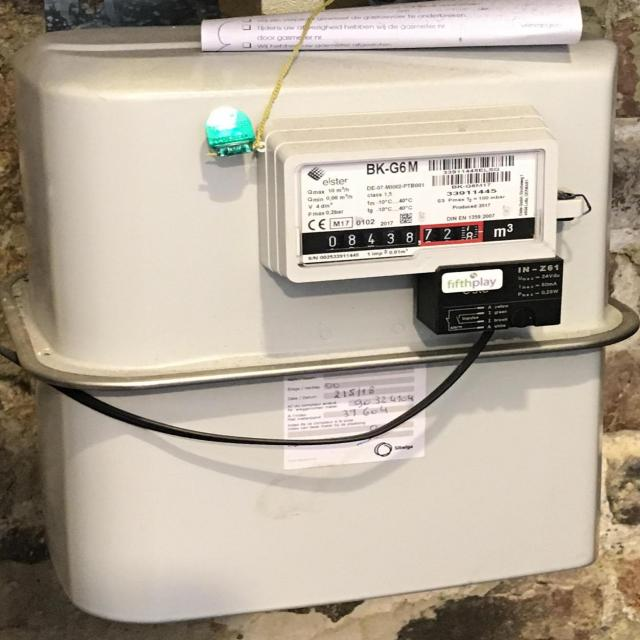gaz_meter: (299, 149, 541, 262)
indication: (306, 218, 484, 254)
